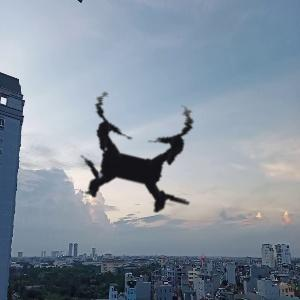drone: (24, 48, 247, 271)
